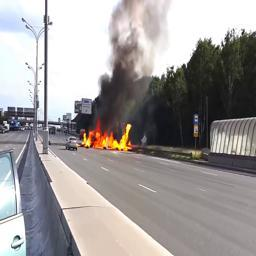fire: (80, 116, 133, 150)
